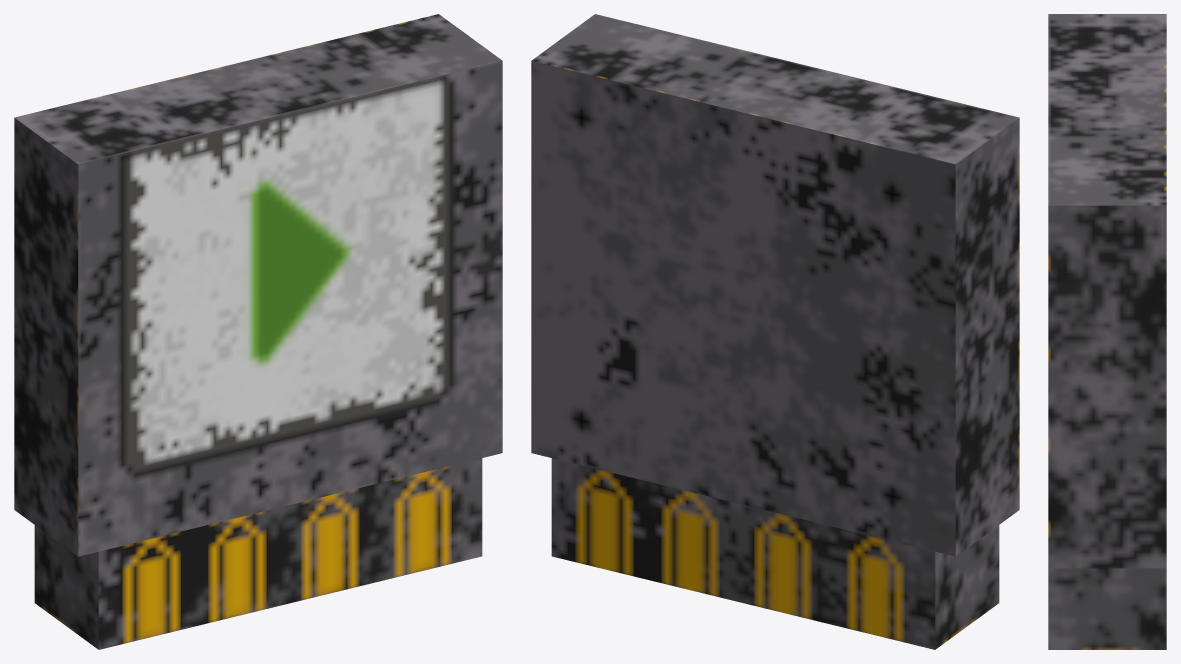
The model's file is Cartridge.fbx.
The picture shows the model from 3 angles, left to right: view 1: azimuth 30°, elevation 25°; view 2: azimuth 150°, elevation 25°; view 3: azimuth 270°, elevation 25°; orthographic projection. The views are drawn at different scales.
Visible parts, largest first — view 1: Cube.001; view 2: Cube.001; view 3: Cube.001.
Boxes of the visible parts, x1,y1,x2,y2 form: Cube.001: (14,14,502,649); Cube.001: (531,14,1019,649); Cube.001: (1048,14,1166,649).
Bounding box in the file's own units: 200 × 221 × 52.2.
